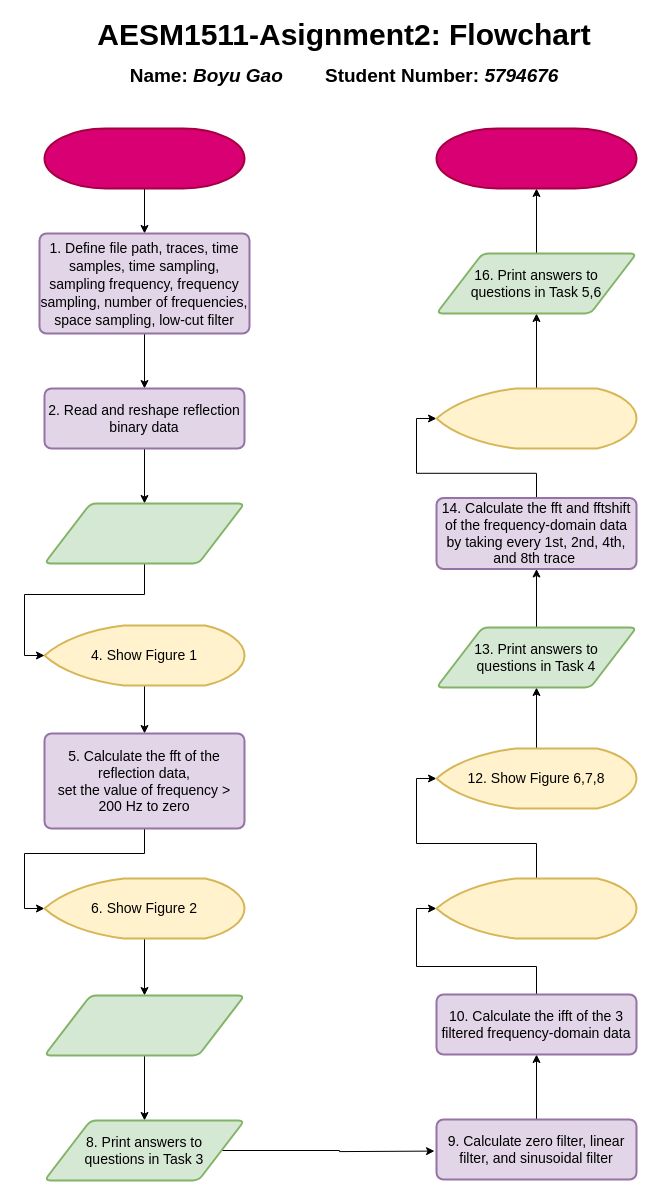
Some shapes in this 655 by 1199 pixel diagram are drawn without their labels. Each missing label, with the box of its shape:
11. Show Figure 3,4,5: (435, 877, 637, 939)
15. Show Figure 9: (435, 387, 637, 449)
3. Print data details: (43, 502, 245, 564)
7. Print answers to questions in Task 2: (43, 994, 245, 1056)
End: (435, 127, 637, 189)
Start: (43, 127, 245, 189)
